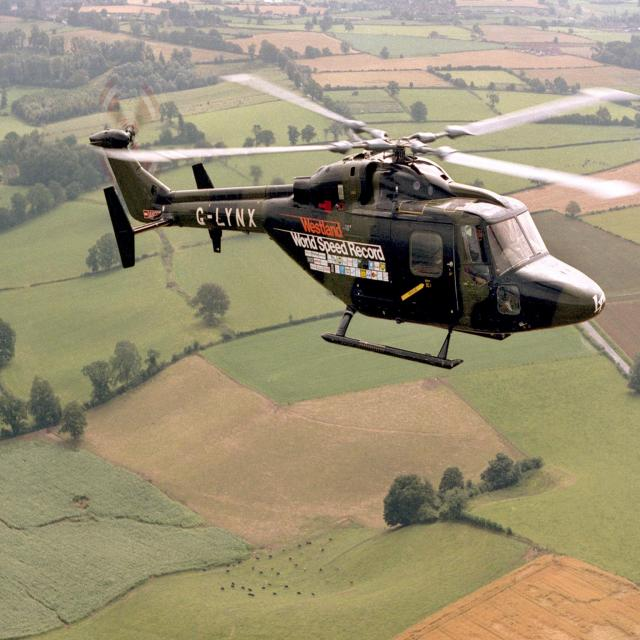helicopter: (89, 73, 640, 371)
